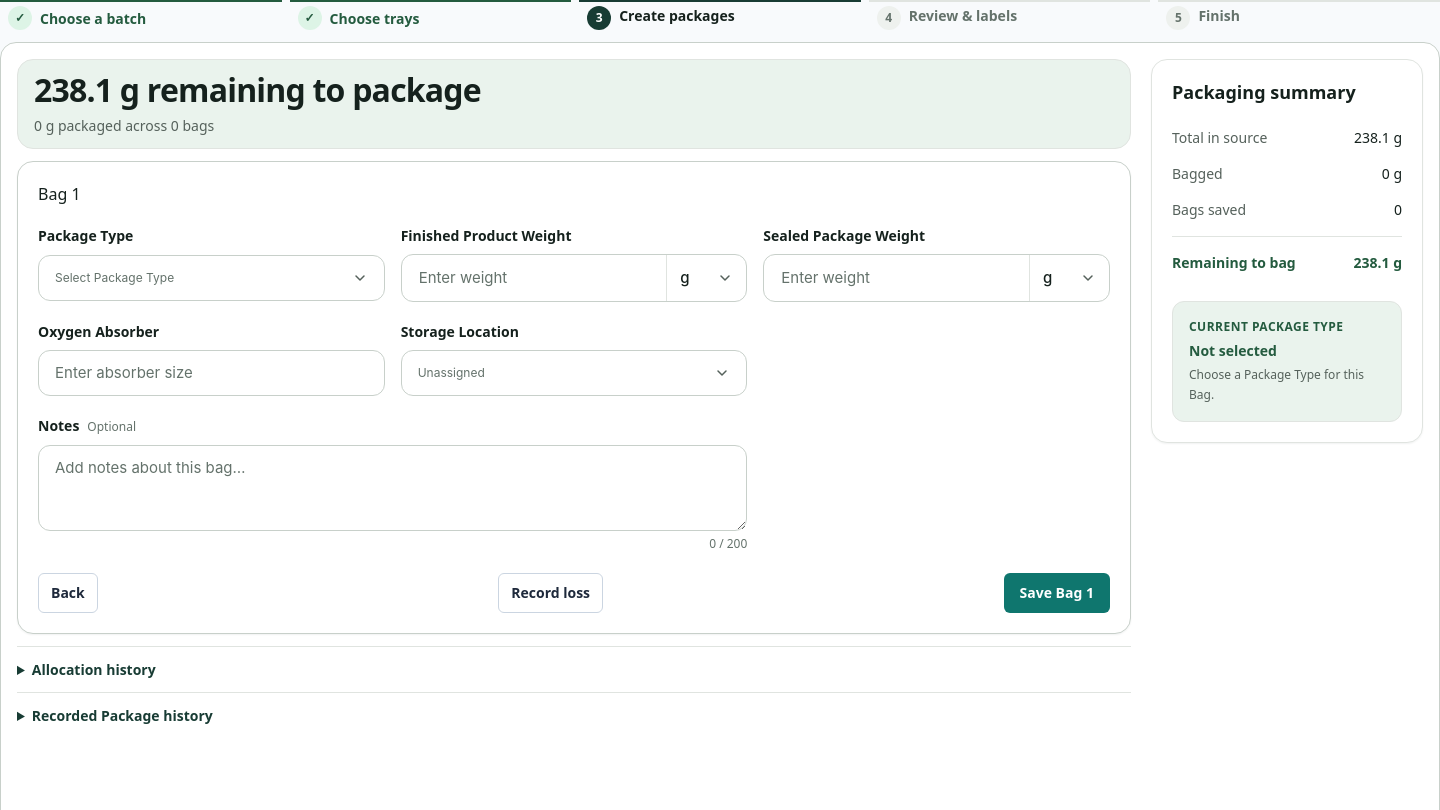
Test: PackagingPage › opens Stage 3 with one focused Bag form and records one Bag at a time
Check: the heading "Bag 1" is shown, box [38, 183, 80, 205]
Check: the text "238.1 g remaining to package" is shown, box [34, 68, 481, 111]
Click the dropdown labelled "Package Type".
click(115, 278)  # box [38, 255, 385, 301]
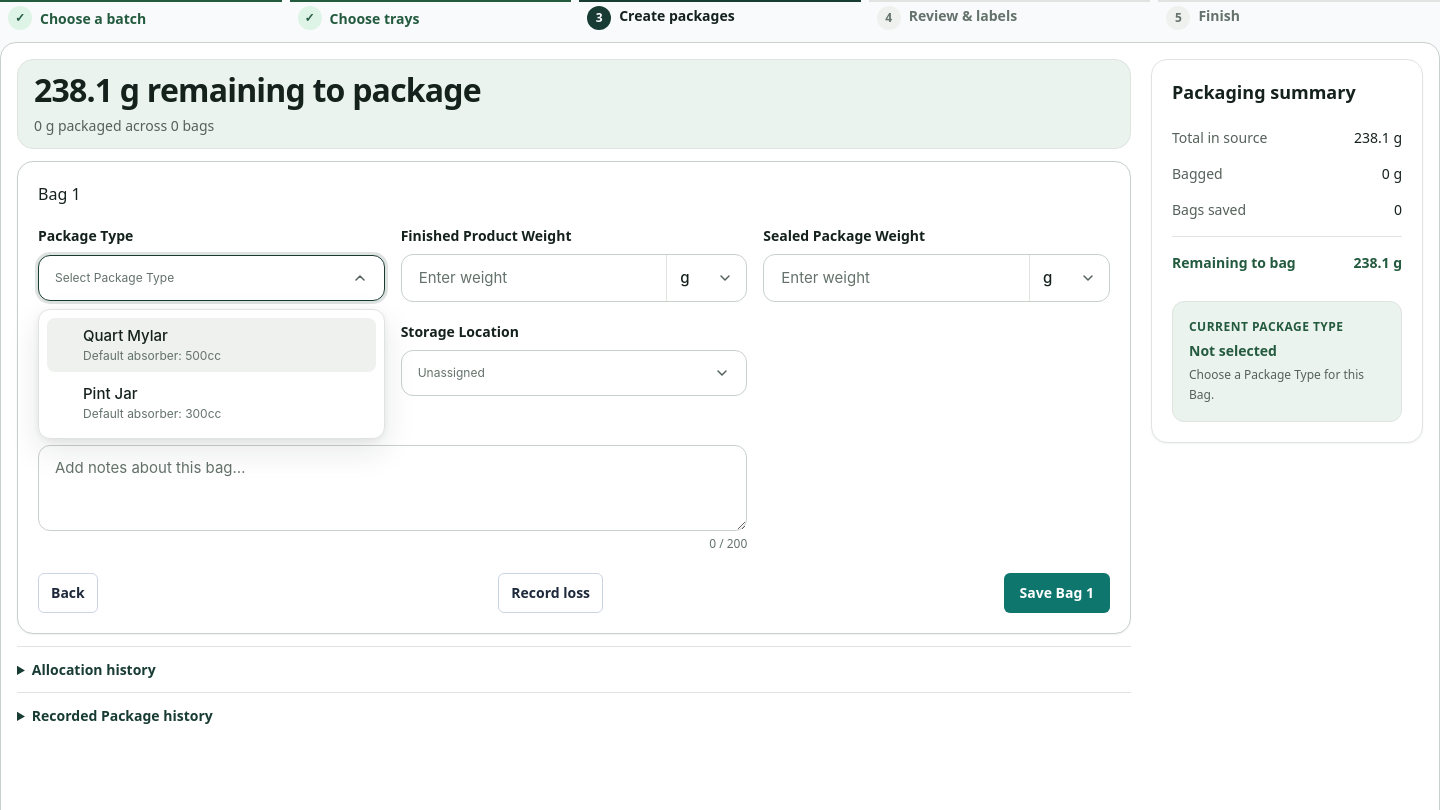
Click the option "Quart Mylar Default absorber: 500cc".
click(211, 345)  # box [47, 318, 376, 372]
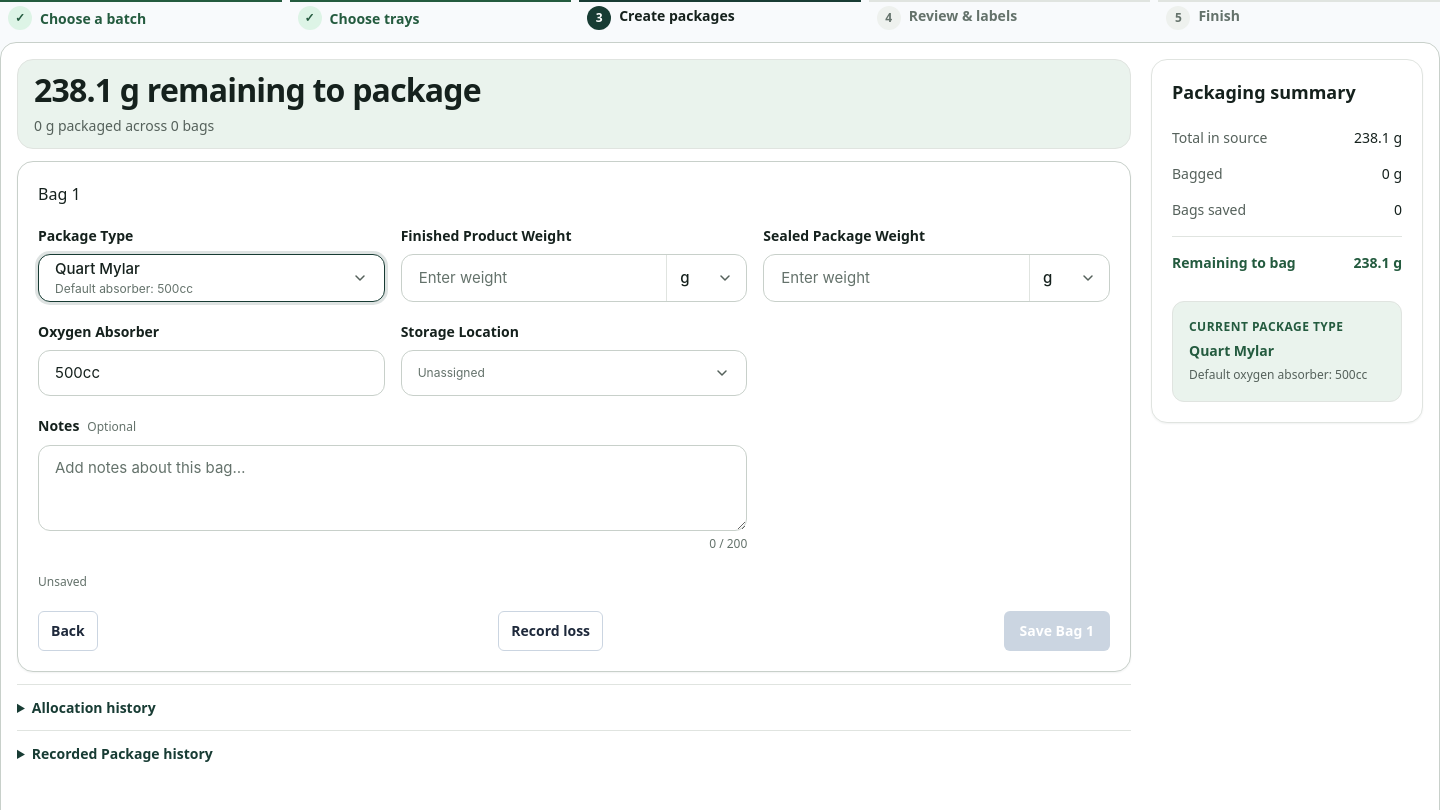
Type "100" into the number field labelled "Finished Product Weight".
click(534, 278); type("100")  # box [402, 255, 666, 301]
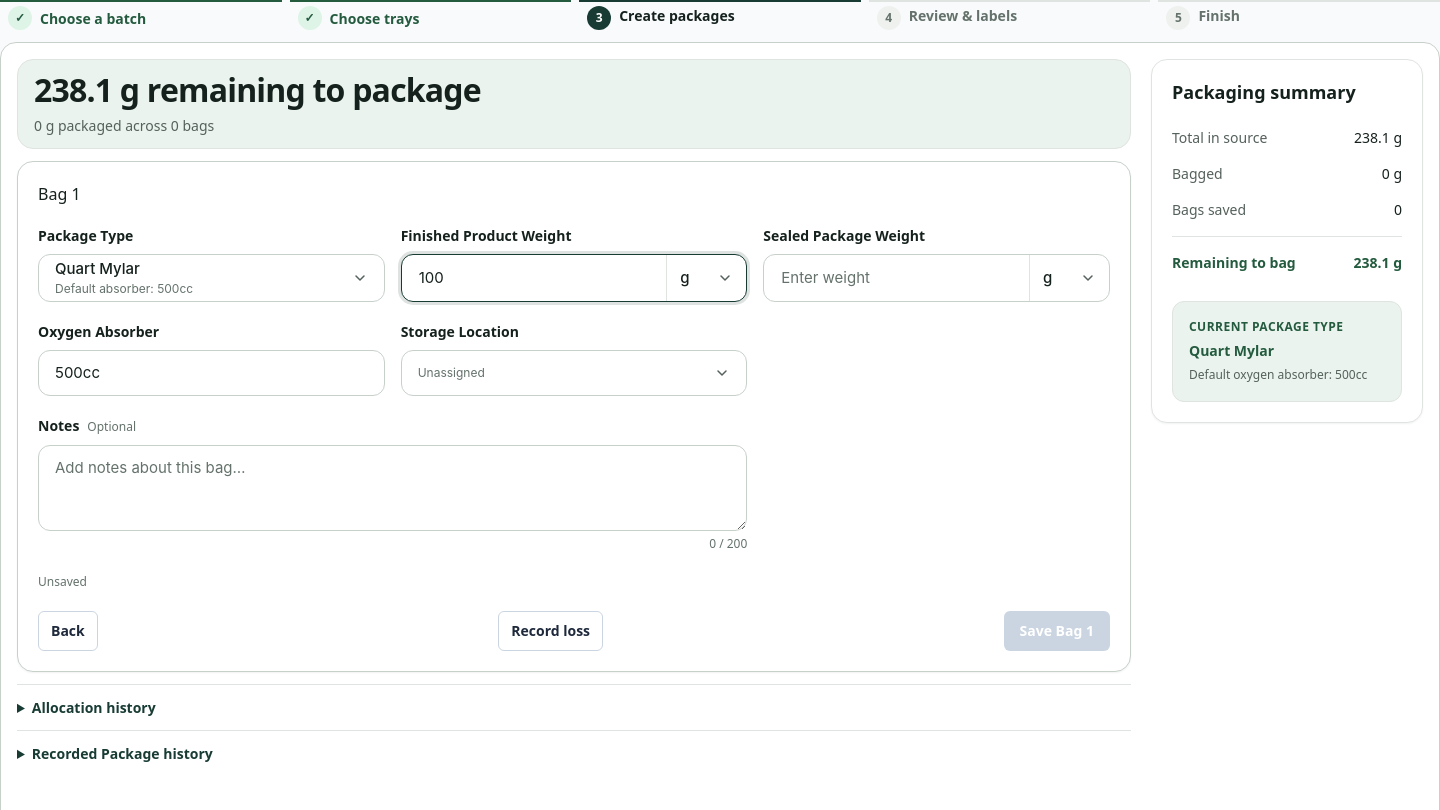
Type "106" into the number field labelled "Sealed Package Weight".
click(897, 278); type("106")  # box [764, 255, 1029, 301]
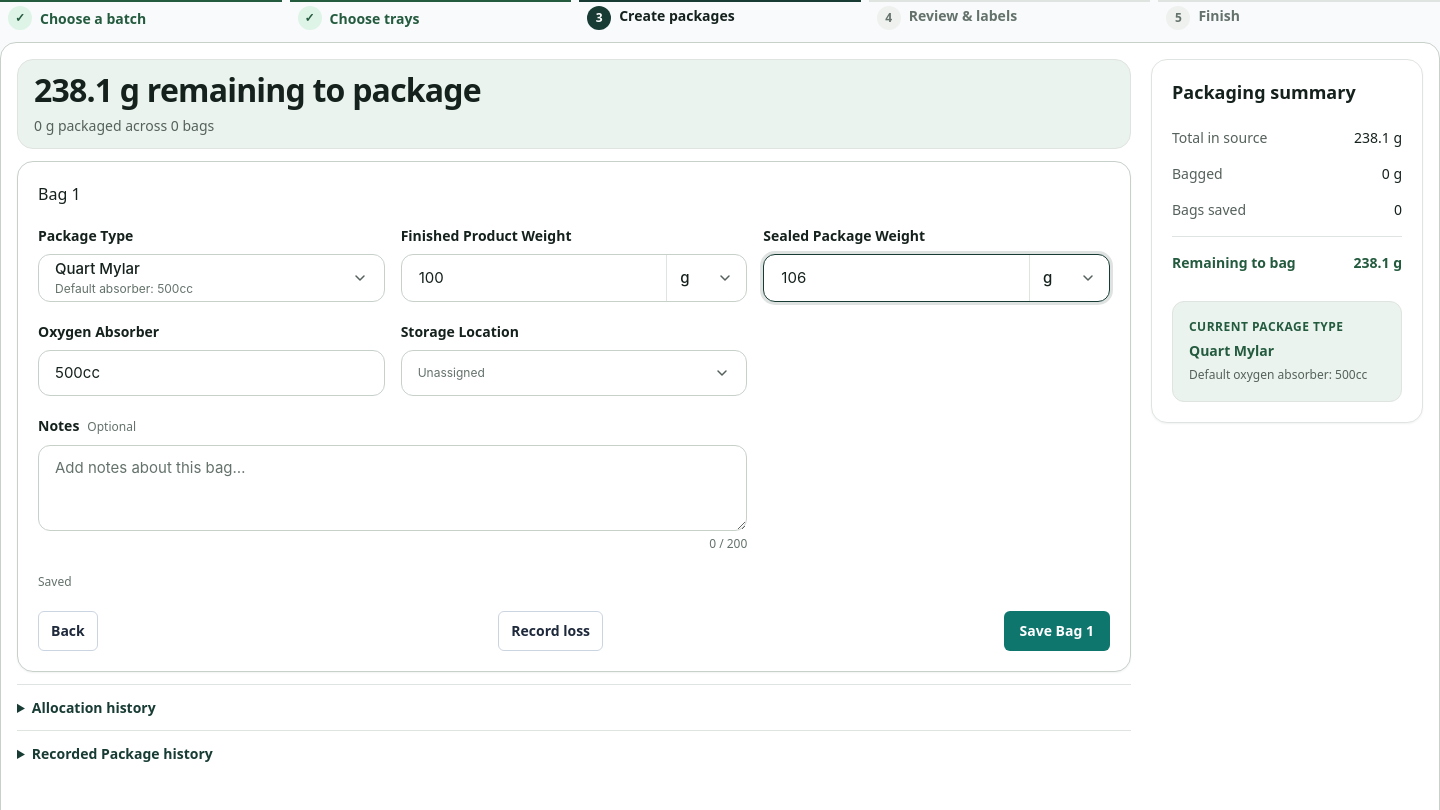
Check: the button "Save Bag 1" is enabled
Click the button "Save Bag 1".
click(1057, 631)  # box [1004, 611, 1110, 651]
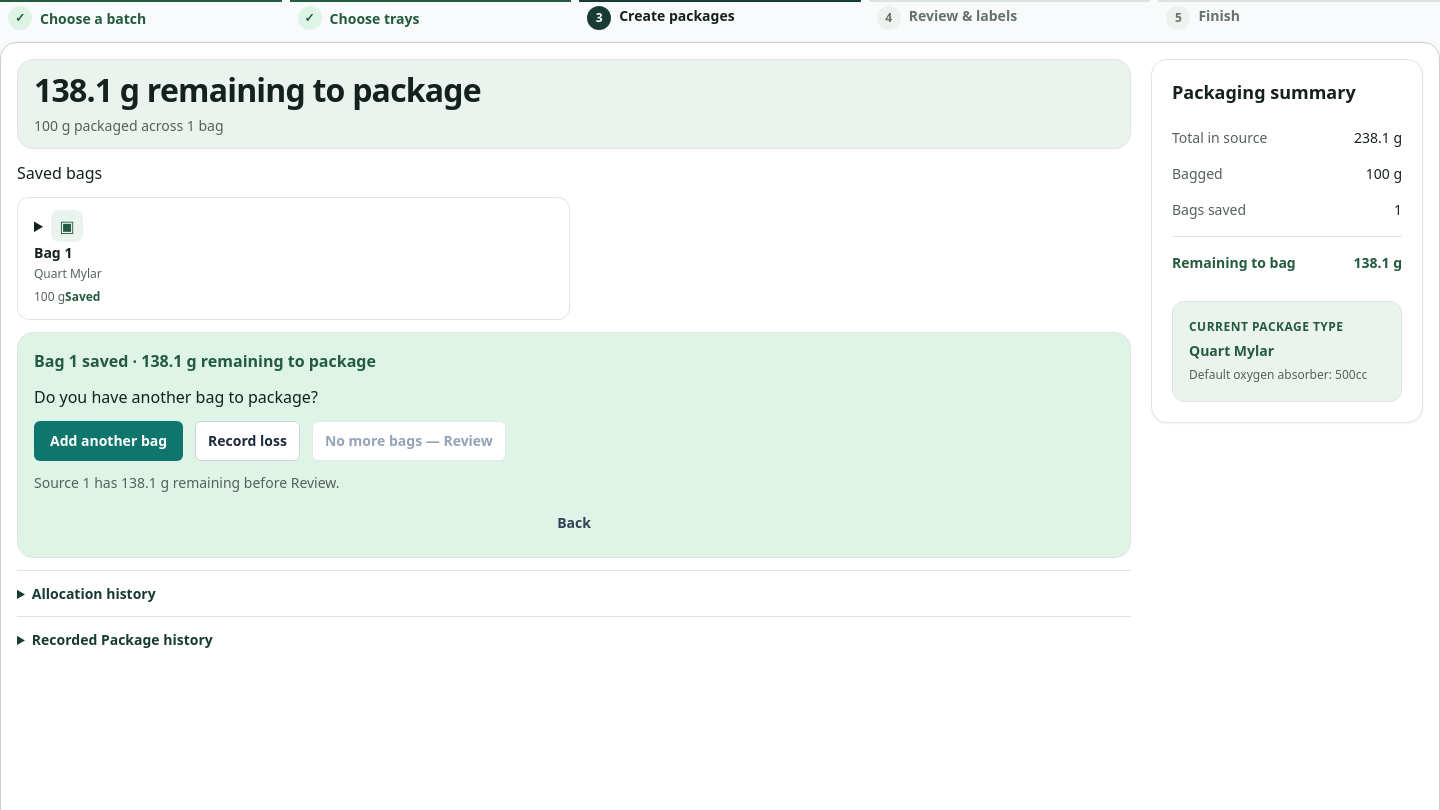
Check: the heading "Do you have another bag to package?" is shown, box [34, 386, 318, 408]
Check: the text "138.1 g remaining to package" is shown, box [34, 68, 481, 111]
Click the button "Add another bag".
click(109, 441)  # box [34, 421, 183, 461]
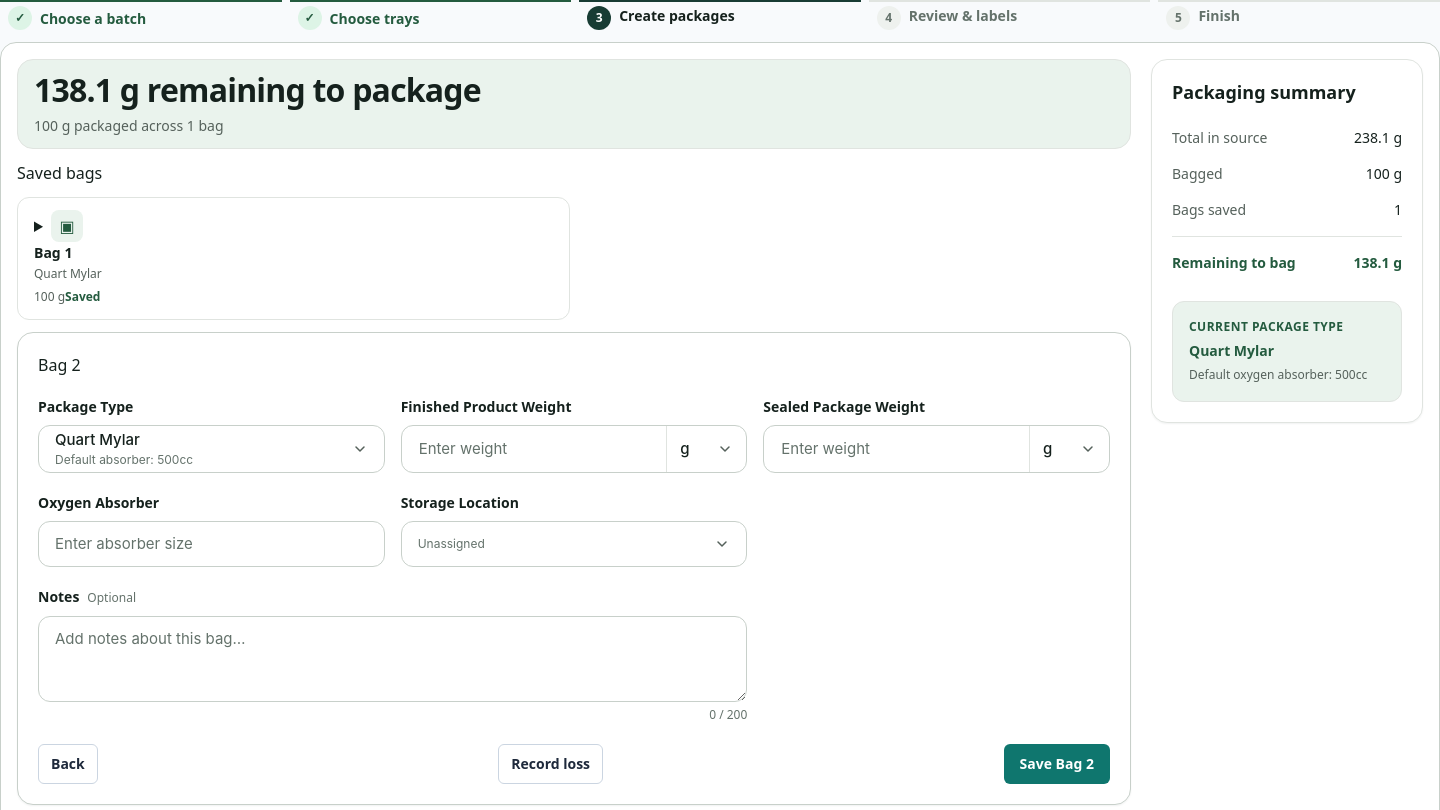
Check: the heading "Bag 2" is shown, box [38, 354, 80, 376]
Check: the dropdown named "Package Type" shows "Quart Mylar", box [38, 425, 385, 473]
Check: the number field labelled "Finished Product Weight" is not empty, box [402, 426, 666, 472]
